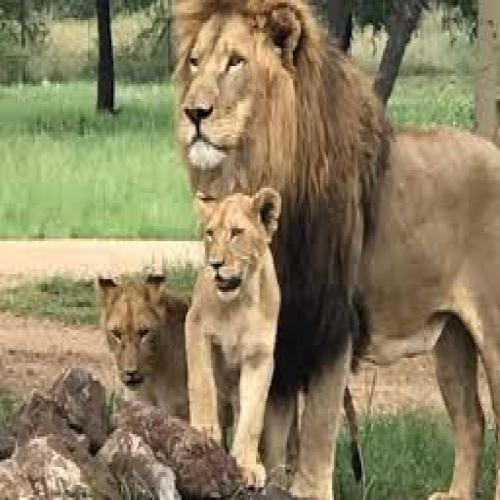lion-endangered: (176, 0, 500, 500), (189, 193, 278, 488), (98, 278, 196, 418)
